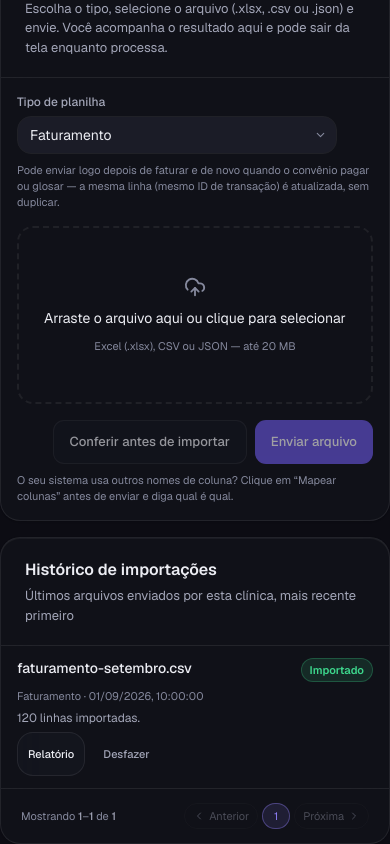
Scenario: UploadCenterPage — aba Planilhas › bloqueia o desfazer quando registros desta importação mudaram depois dela
(page scrolled)
Click the button with aria-label "Desfazer importação de faturamento-setembro.csv": {"x": 126, "y": 754} x1=93 y1=732 x2=160 y2=776
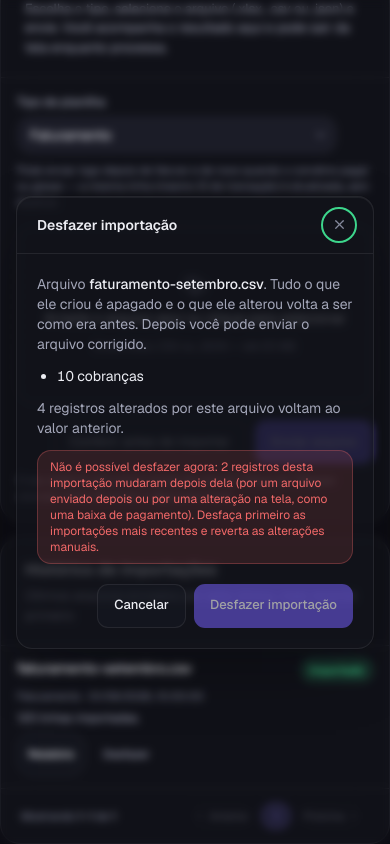
Expected: the text "Não é possível desfazer agora" is shown, x1=50 y1=458 x2=221 y2=474
Expected: the button "Desfazer importação" is disabled, x1=194 y1=584 x2=353 y2=628
